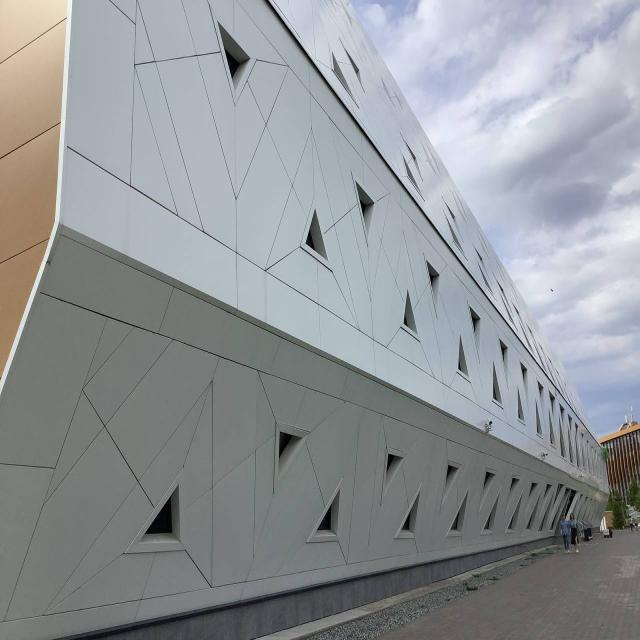Building: (0, 0, 610, 640)
